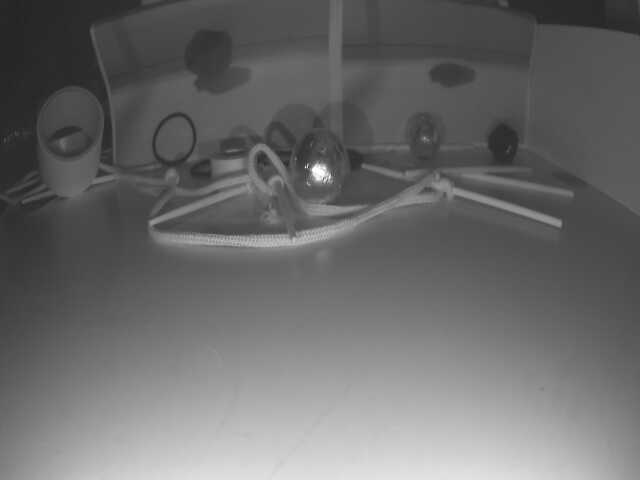Dead: (486, 122, 518, 160)
Live: (290, 130, 349, 211), (409, 110, 441, 160)
